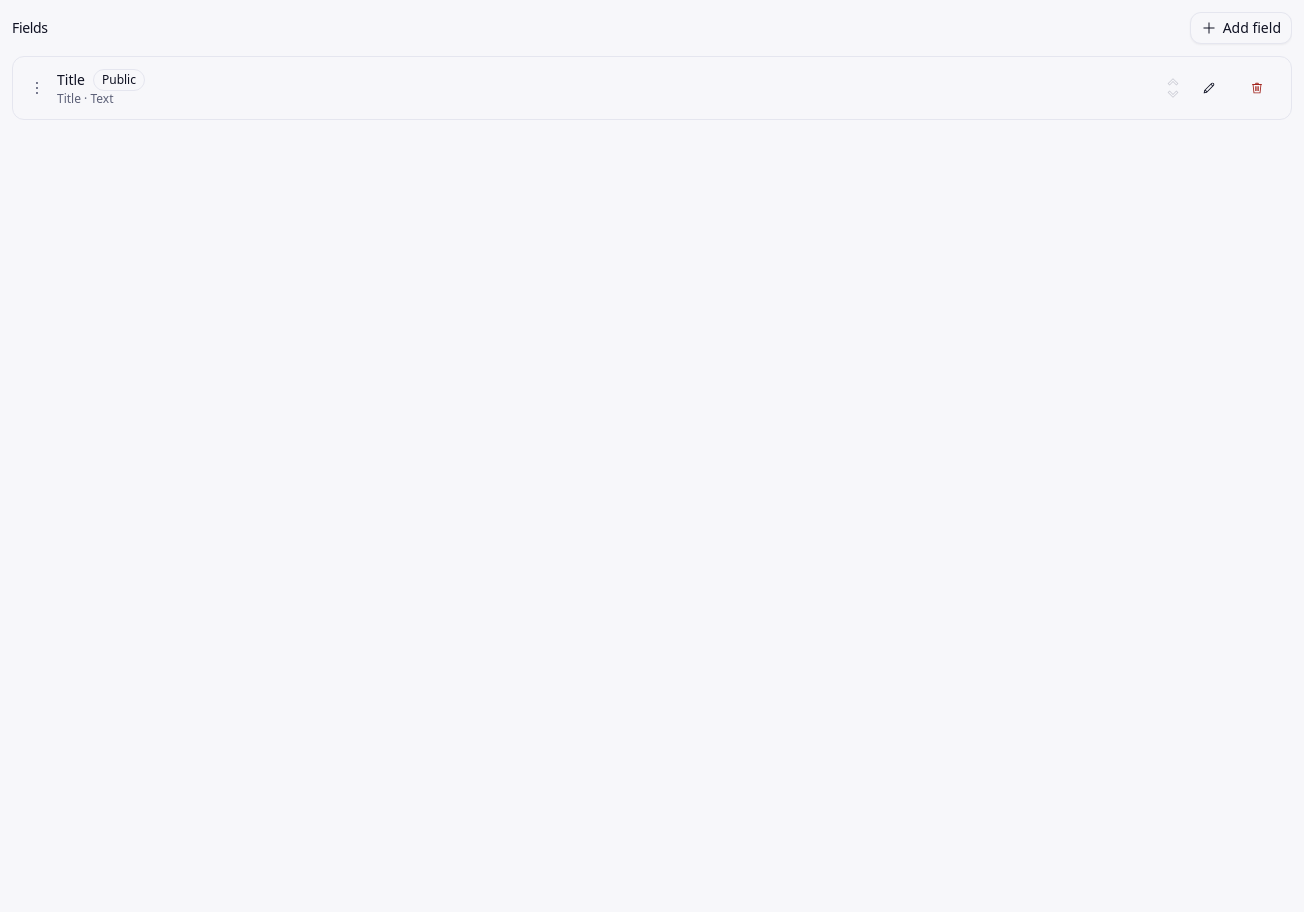
Test case: the members a field type adds › refuses a name another field holds in another case
Click the button "Add field" at (1241, 28), box [1190,12,1292,44]
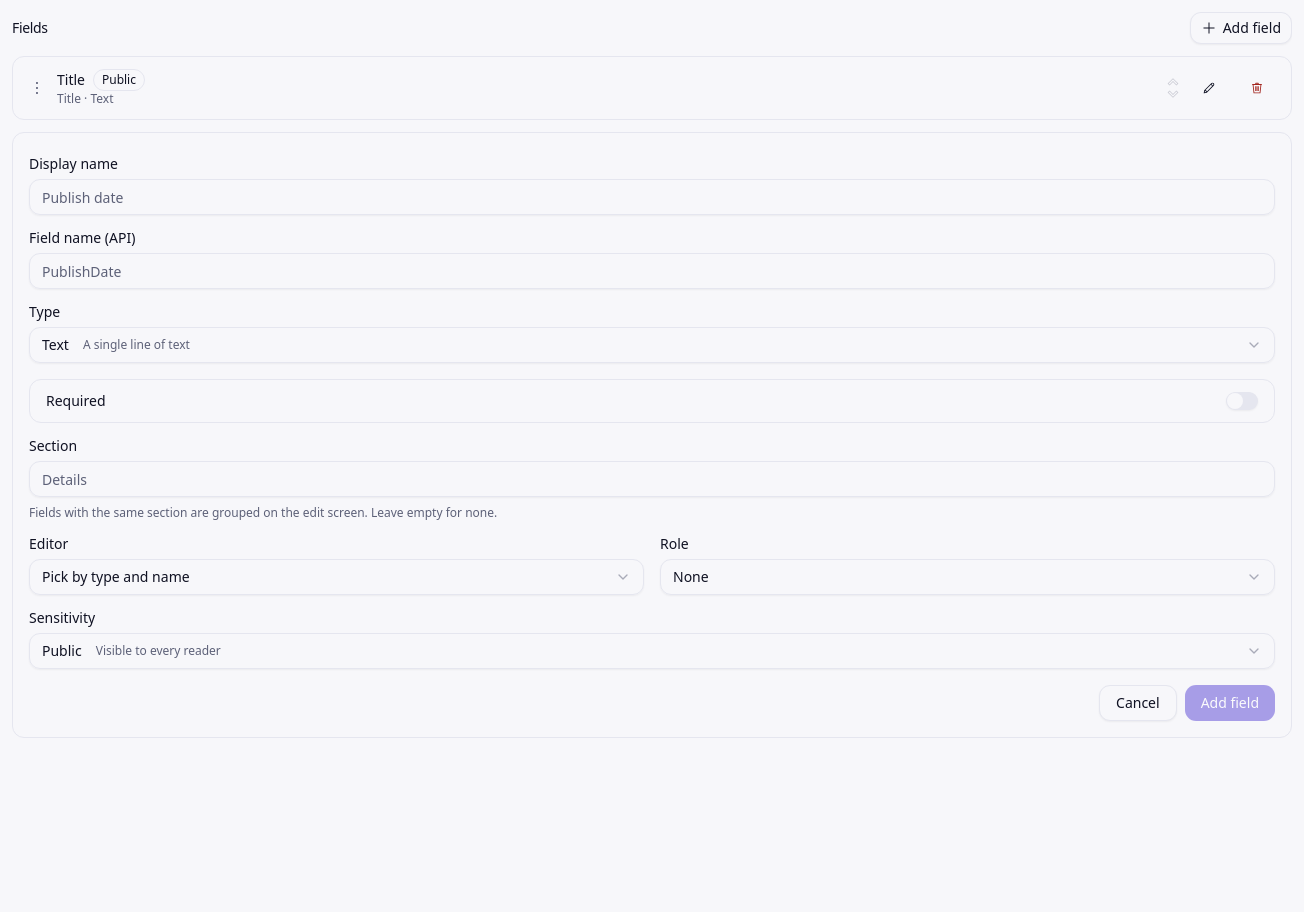
Type "Heading" into the field labelled "Display name" at (652, 197), box [29,179,1275,215]
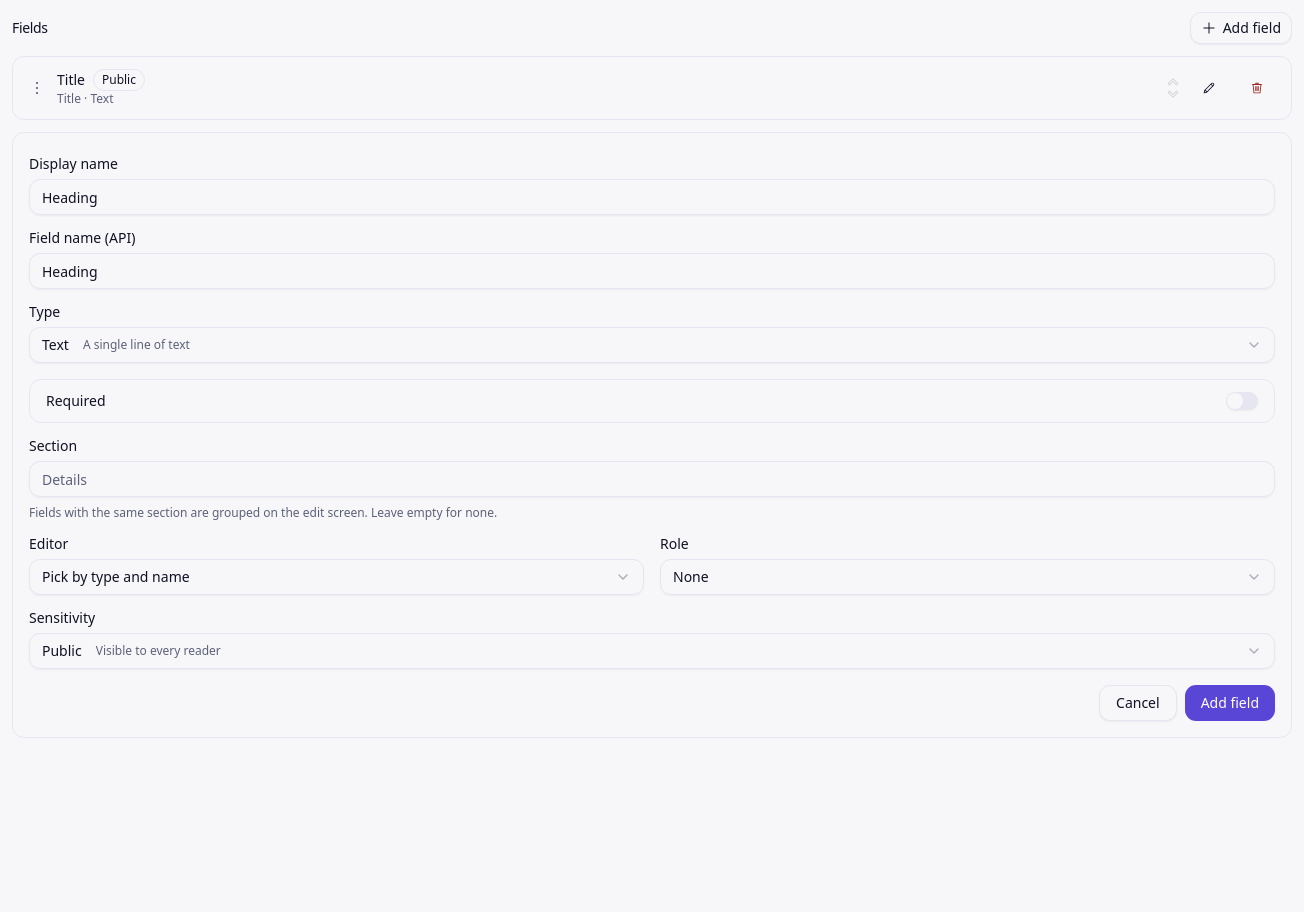
Expected: the 2nd button "Add field" is enabled, [1185,685,1275,721]
Replace the text in the field labelled "Field name (API)" with "TItle" at (652, 271), box [29,253,1275,289]
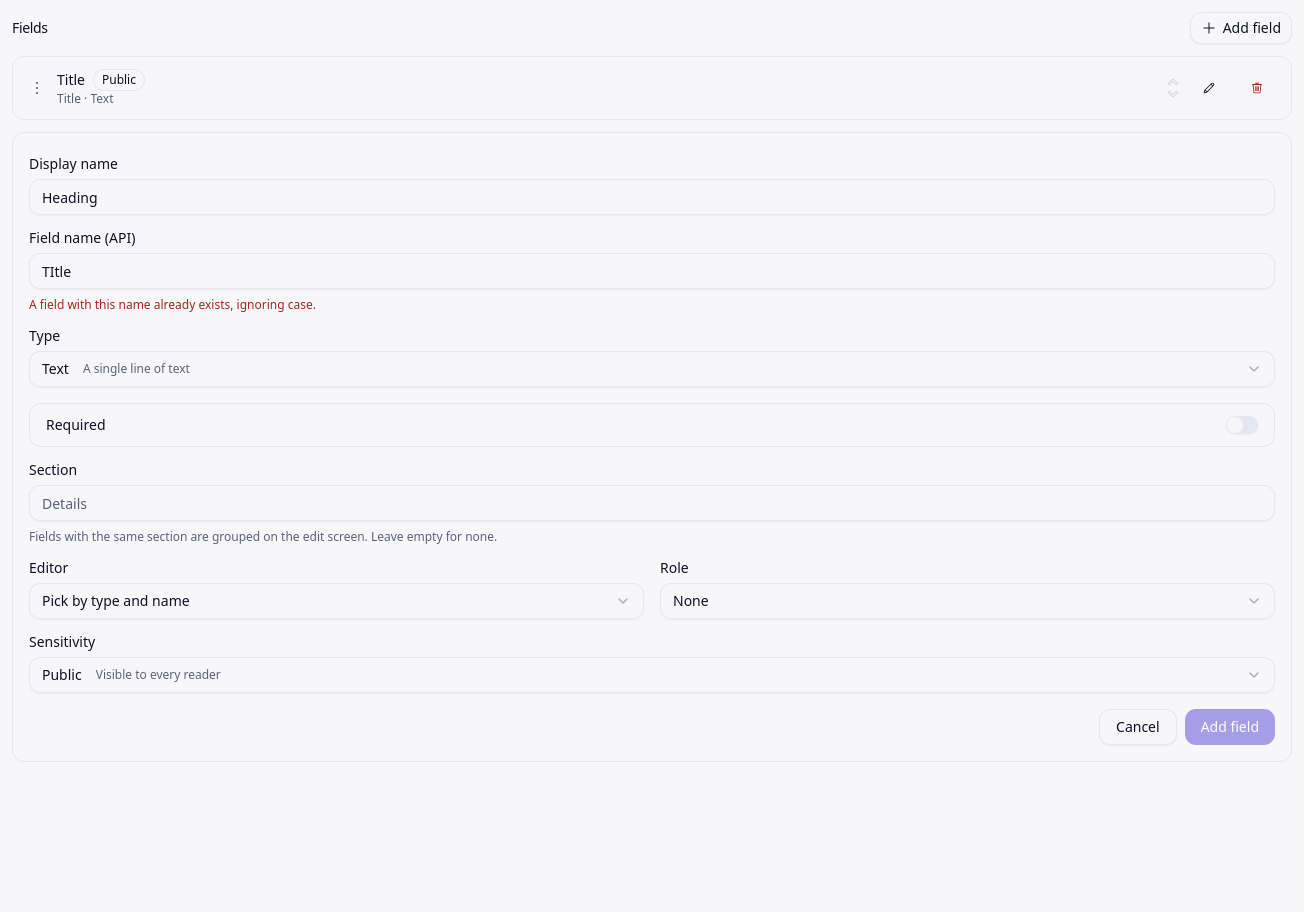
Expected: the text "A field with this name already exists, ignoring case." is shown, [29,296,316,313]
Expected: the 2nd button "Add field" is disabled, [1185,709,1275,745]
